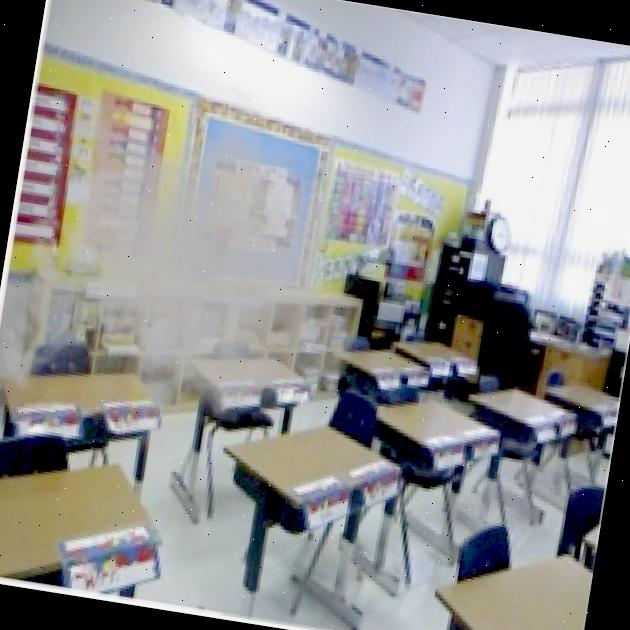smoke: (0, 32, 399, 500)
